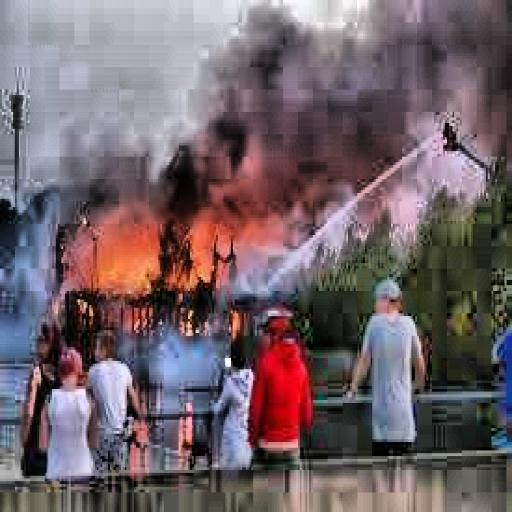fire: (50, 202, 226, 302)
